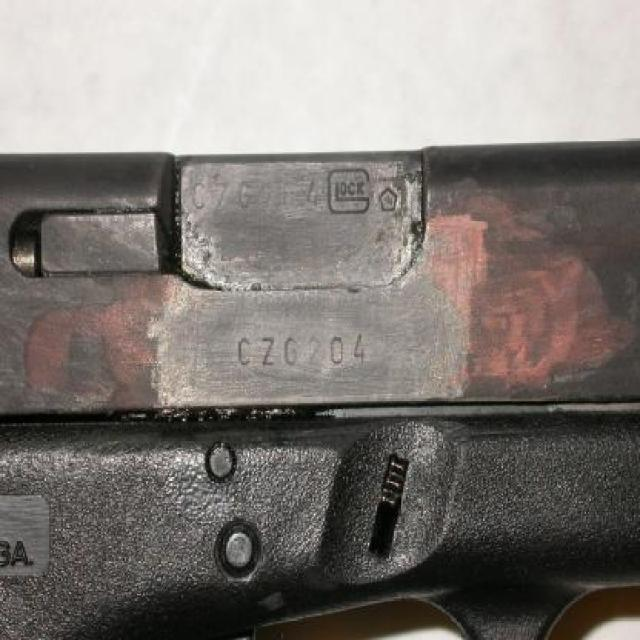gun: (0, 136, 638, 639)
